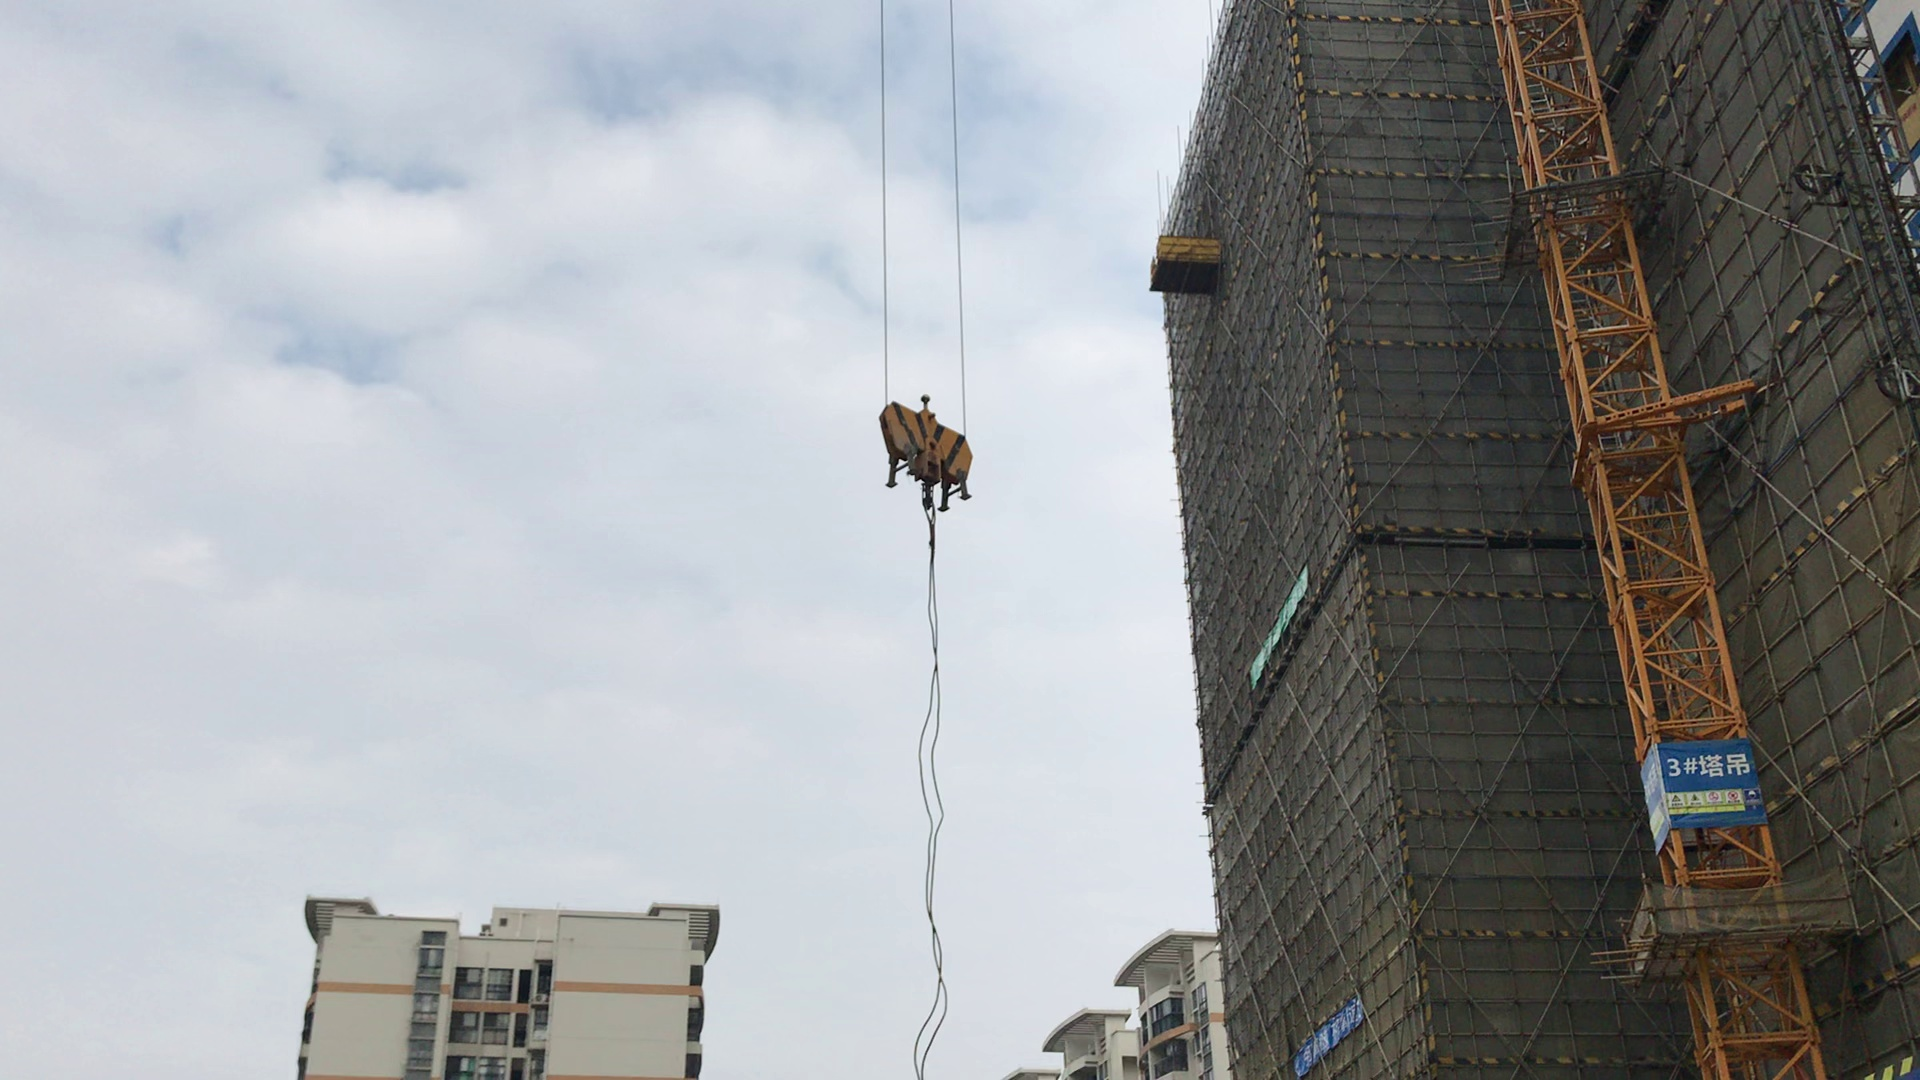hook: (877, 400, 984, 517)
slogan: (1250, 570, 1309, 684), (1302, 992, 1366, 1062), (1671, 786, 1760, 822)
